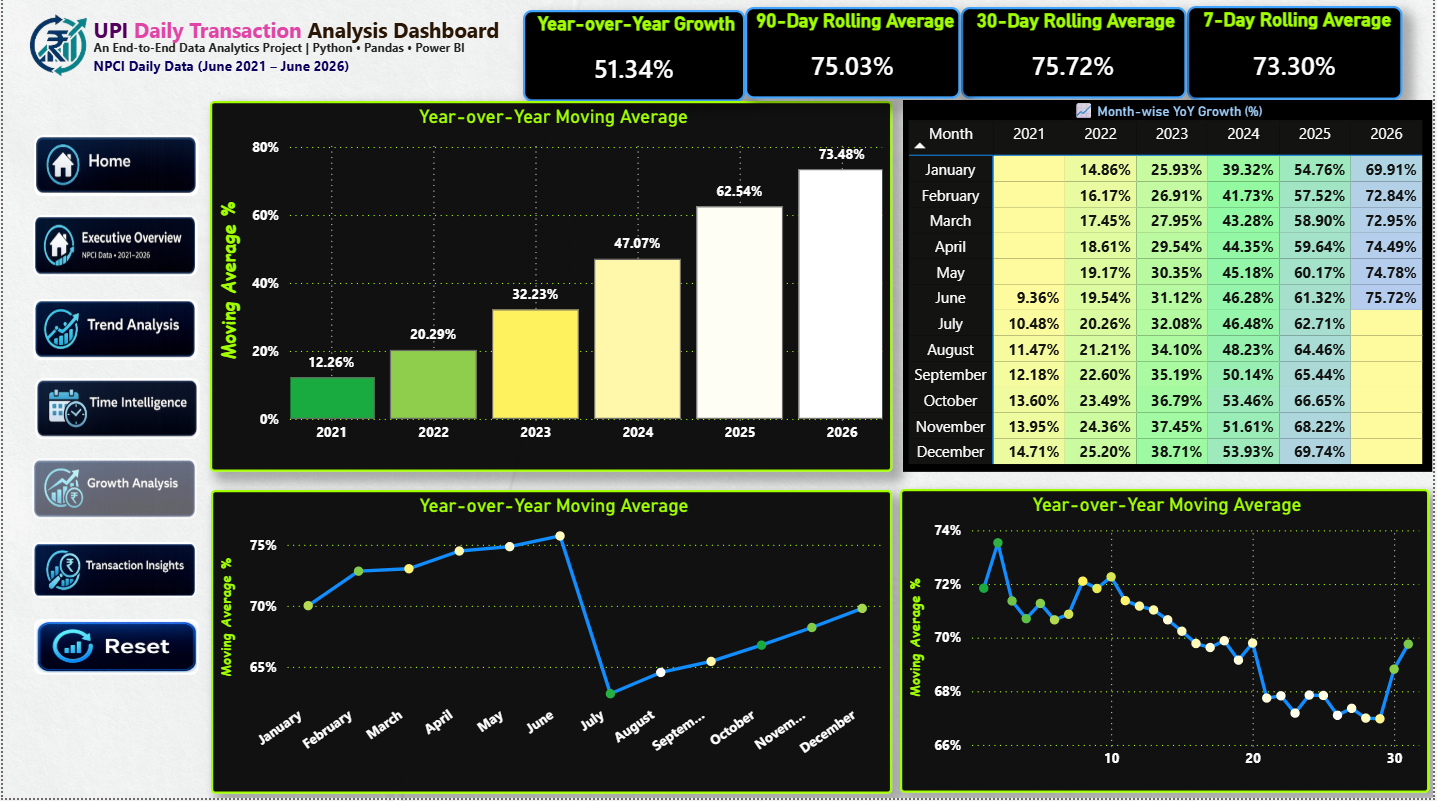

The page's visual inventory and layout, read from the dashboard file:
{"tool":"powerbi","page":{"name":"📊 Growth Analysis","canvas":[1280,720],"ordinal":3},"visuals":[{"type":"group","id":"g1","title":"Group 1","box":[55.4,14.4,409.1,63.9],"z":0},{"type":"textbox","box":[55.4,14.4,409.1,38.1],"z":0,"group":"g1"},{"type":"image","box":[6.2,14.4,86,65.1],"z":1000},{"type":"textbox","box":[75.7,33.4,368,44.8],"z":1000,"group":"g1"},{"type":"actionButton","box":[27,198.2,147.5,55],"z":2000},{"type":"actionButton","box":[28.1,126.2,147.5,55],"z":3000},{"type":"actionButton","box":[26.5,273.5,147.5,55],"z":4000},{"type":"actionButton","box":[28.6,343.5,147.5,55],"z":5000},{"type":"actionButton","box":[26.1,490.4,147.5,50],"z":6000},{"type":"actionButton","box":[28.1,559.4,147.5,50],"z":7000},{"type":"actionButton","box":[25.7,415.4,148.1,55],"z":8000},{"type":"cardVisual","title":"Year-over-Year Growth","fields":{"Data":["UPI_Daily_Statistics_Clean.YoY Growth %"]},"box":[465.5,14,199.2,81.9],"z":9000},{"type":"cardVisual","title":"7-Day Rolling Average","fields":{"Data":["UPI_Daily_Statistics_Clean.7-Day Rolling Avg (Bn)"]},"box":[1059.9,10.6,193.5,84],"z":10000},{"type":"cardVisual","title":"30-Day Rolling Average","fields":{"Data":["UPI_Daily_Statistics_Clean.30-Day Rolling Avg (Bn)"]},"box":[857.9,11.7,202,81.9],"z":11000},{"type":"pivotTable","title":"📈 Month-wise YoY Growth (%)","fields":{"Columns":["UPI_Daily_Statistics_Clean.Date.Variation.Date Hierarchy.Year"],"Rows":["UPI_Daily_Statistics_Clean.Date.Variation.Date Hierarchy.Month"],"Values":["UPI_Daily_Statistics_Clean.30-Day Rolling Avg (Bn)"]},"box":[805.8,94.6,474.2,332.8],"z":12000},{"type":"columnChart","title":"Year-over-Year Moving Average","fields":{"Category":["UPI_Daily_Statistics_Clean.Date.Variation.Date Hierarchy.Year"],"Y":["UPI_Daily_Statistics_Clean.1-Year Rolling Avg (Vol)"]},"box":[185,95.7,611.3,331.7],"z":13000},{"type":"cardVisual","title":"90-Day Rolling Average","fields":{"Data":["UPI_Daily_Statistics_Clean.90-Day Rolling Avg (Bn)"]},"box":[664.5,11.7,193.5,81.9],"z":14000},{"type":"lineChart","title":"Year-over-Year Moving Average","fields":{"Category":["UPI_Daily_Statistics_Clean.Date.Variation.Date Hierarchy.Month"],"Y":["UPI_Daily_Statistics_Clean.1-Year Rolling Avg (Vol)"]},"box":[186,444.4,610.2,272.2],"z":15000},{"type":"lineChart","title":"Year-over-Year Moving Average","fields":{"Category":["UPI_Daily_Statistics_Clean.Date.Variation.Date Hierarchy.Day"],"Y":["UPI_Daily_Statistics_Clean.1-Year Rolling Avg (Vol)"]},"box":[803.7,443.3,474.2,272.2],"z":16000}]}

Visuals, with their boxes in screenshot pixels (x1, y1, x2, y2), scaled from the page's 1280x720 canvas onto the 1437x801 screenshot:
"Group 1" group: (left=62, top=16, right=521, bottom=87)
textbox: (left=62, top=16, right=521, bottom=58)
image: (left=7, top=16, right=104, bottom=88)
textbox: (left=85, top=37, right=498, bottom=87)
actionButton: (left=30, top=220, right=196, bottom=282)
actionButton: (left=32, top=140, right=197, bottom=202)
actionButton: (left=30, top=304, right=195, bottom=365)
actionButton: (left=32, top=382, right=198, bottom=443)
actionButton: (left=29, top=546, right=195, bottom=601)
actionButton: (left=32, top=622, right=197, bottom=678)
actionButton: (left=29, top=462, right=195, bottom=523)
"Year-over-Year Growth" cardVisual: (left=523, top=16, right=746, bottom=107)
"7-Day Rolling Average" cardVisual: (left=1190, top=12, right=1407, bottom=105)
"30-Day Rolling Average" cardVisual: (left=963, top=13, right=1190, bottom=104)
"📈 Month-wise YoY Growth (%)" pivotTable: (left=905, top=105, right=1436, bottom=475)
"Year-over-Year Moving Average" columnChart: (left=208, top=106, right=894, bottom=475)
"90-Day Rolling Average" cardVisual: (left=746, top=13, right=963, bottom=104)
"Year-over-Year Moving Average" lineChart: (left=209, top=494, right=894, bottom=797)
"Year-over-Year Moving Average" lineChart: (left=902, top=493, right=1435, bottom=796)
